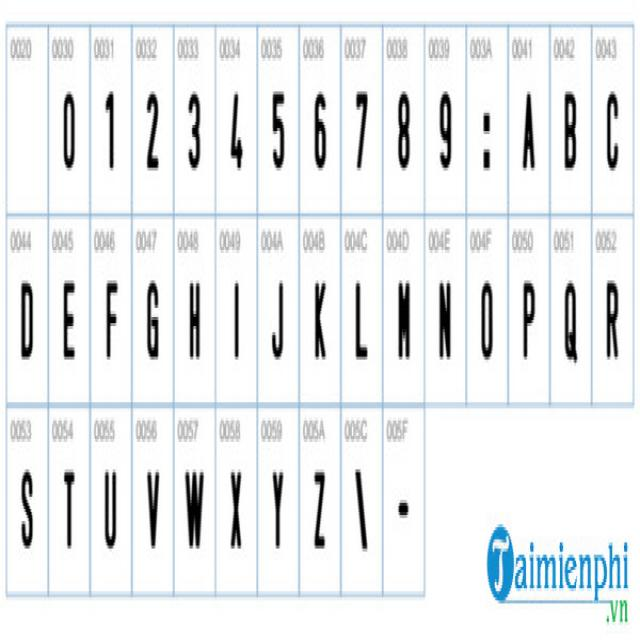0: (60, 85, 80, 180)
1: (98, 85, 119, 177)
2: (139, 82, 164, 177)
3: (181, 88, 208, 180)
4: (228, 85, 244, 180)
5: (268, 88, 291, 183)
6: (310, 82, 330, 177)
7: (349, 82, 373, 183)
8: (393, 88, 416, 177)
9: (436, 90, 458, 172)
A: (518, 85, 540, 180)
B: (560, 88, 581, 189)
C: (602, 85, 623, 183)
D: (17, 277, 40, 372)
E: (60, 265, 77, 341)
F: (101, 274, 122, 369)
G: (141, 280, 165, 378)
H: (184, 277, 202, 381)
K: (307, 280, 332, 378)
L: (349, 277, 373, 375)
M: (394, 277, 415, 375)
N: (433, 280, 456, 363)
P: (517, 280, 541, 375)
S: (16, 459, 37, 553)
T: (56, 459, 79, 559)
U: (99, 439, 121, 548)
V: (141, 466, 165, 558)
X: (225, 448, 248, 561)
Y: (265, 457, 288, 552)
Z: (307, 457, 332, 558)
